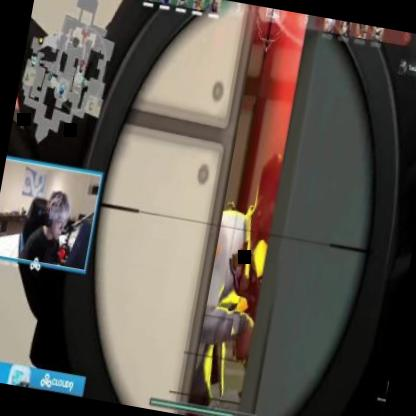enemy: (169, 142, 294, 416)
enemy_head: (247, 150, 294, 250)
